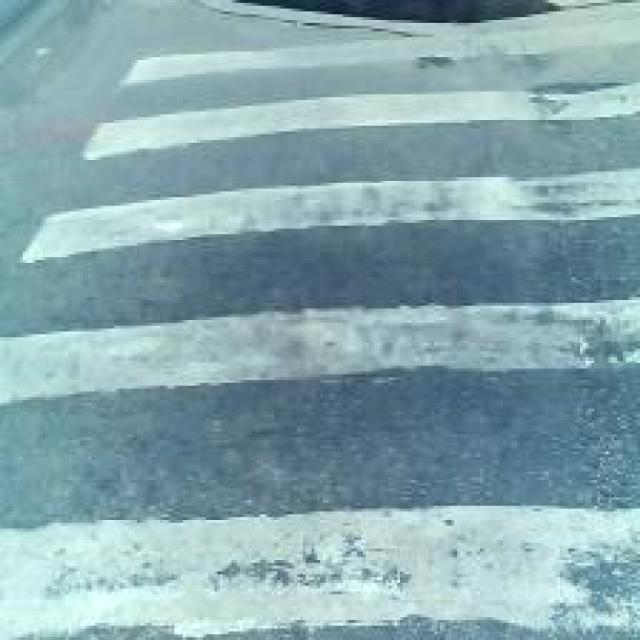walk-crossing: (134, 40, 640, 640)
